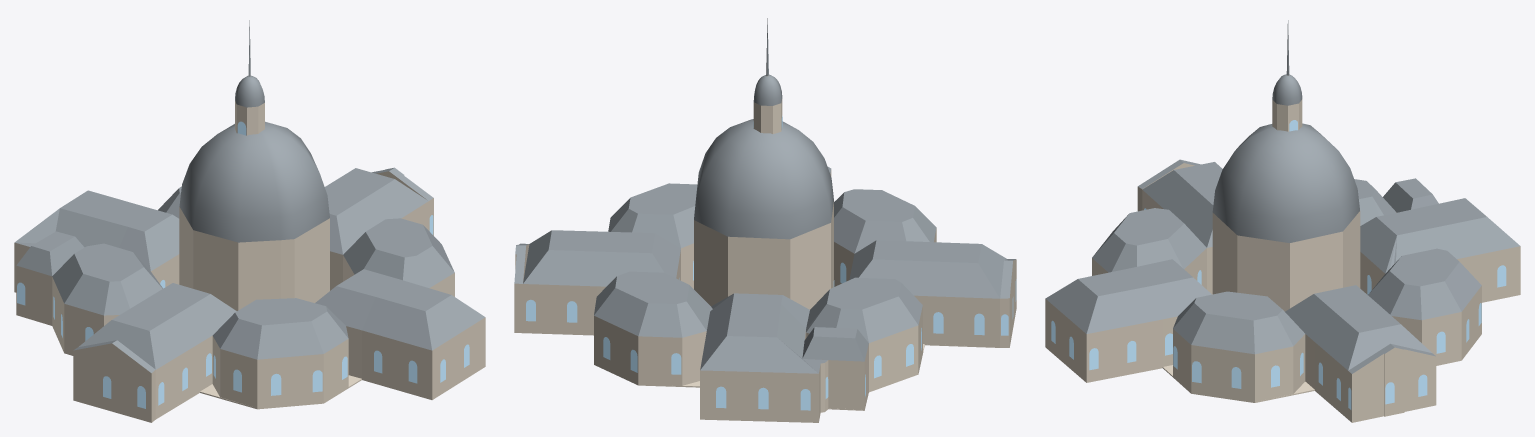
3 renders of one model, left to right at view 1: azimuth 30°, elevation 25°; view 2: azimuth 150°, elevation 25°; view 3: azimuth 270°, elevation 25°, orthographic.
Parts seen in each view (by area): view 1: roof, stone, window; view 2: roof, stone, window; view 3: roof, stone, window.
Boxes of the visible parts, x1,y1,x2,y2 form: roof: (15,20,484,372); stone: (14,76,485,422); window: (17,121,469,408); roof: (514,18,1015,373); stone: (514,75,1016,422); window: (526,116,1016,410); roof: (1045,20,1520,373); stone: (1045,75,1520,422); window: (1051,120,1506,409).
Size of the model in its own units: 72.01 by 50 by 70.59.
